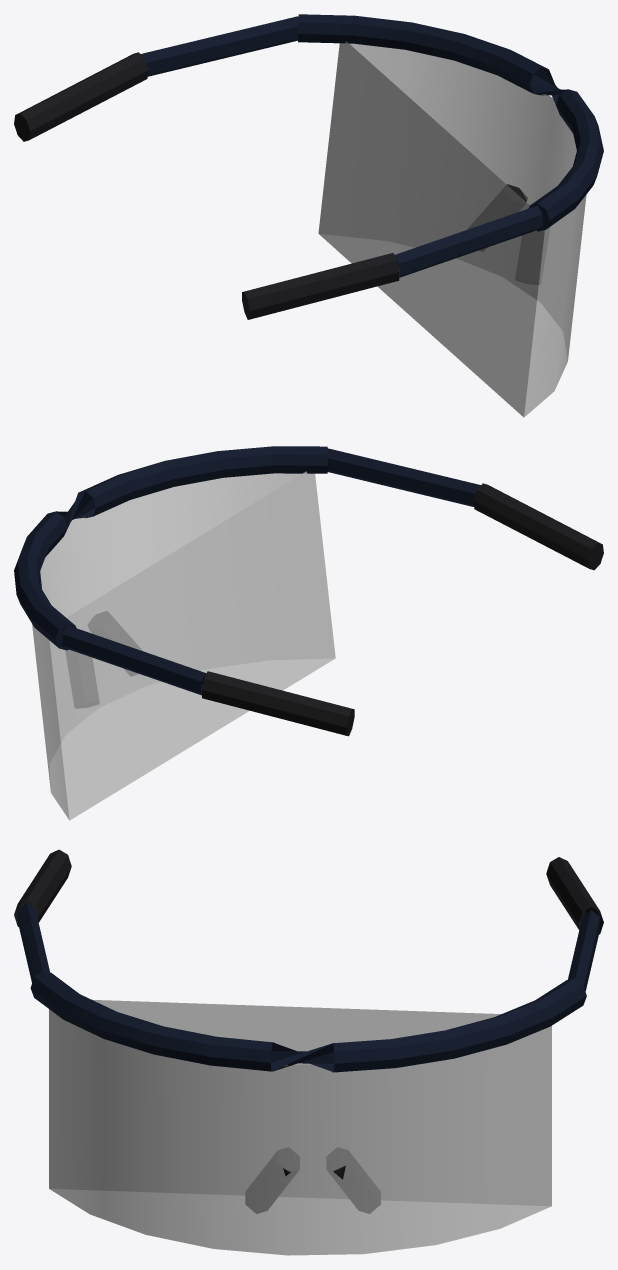
File: glasses_pro.glb
3 renders of one model, top to bottom at view 1: azimuth 30°, elevation 25°; view 2: azimuth 150°, elevation 25°; view 3: azimuth 270°, elevation 25°, orthographic. The views are drawn at different scales.
Parts seen in each view (by area): view 1: Glasses_Pro; view 2: Glasses_Pro; view 3: Glasses_Pro.
Boxes of the visible parts, <box> form: Glasses_Pro: <box>14,14,603,417</box>; Glasses_Pro: <box>14,446,603,820</box>; Glasses_Pro: <box>14,849,603,1255</box>.
Bounding box in the file's own units: 0.1317 × 0.061 × 0.1457.
